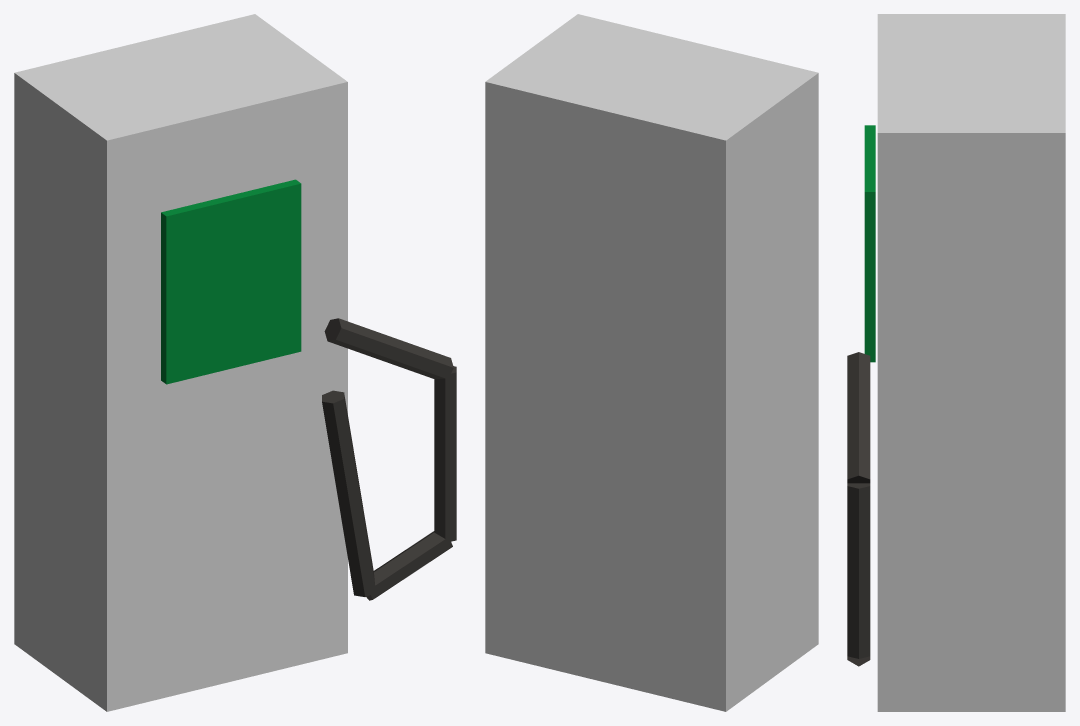
Rendered from ev_charger.glb.
The picture shows the model from 3 angles, left to right: view 1: azimuth 30°, elevation 25°; view 2: azimuth 150°, elevation 25°; view 3: azimuth 270°, elevation 25°; orthographic projection.
Parts seen in each view (by area): view 1: box_white, screen_green, cable_ink; view 2: box_white; view 3: box_white, cable_ink, screen_green.
Part boxes in pixels (bbox=[...]): box_white: bbox=[14, 14, 347, 711]; screen_green: bbox=[161, 179, 301, 384]; cable_ink: bbox=[322, 318, 456, 600]; box_white: bbox=[485, 14, 818, 711]; box_white: bbox=[877, 14, 1065, 711]; cable_ink: bbox=[847, 352, 870, 666]; screen_green: bbox=[864, 125, 875, 362].
Bounding box in the file's own units: 1.06 × 1.7 × 0.5803.
